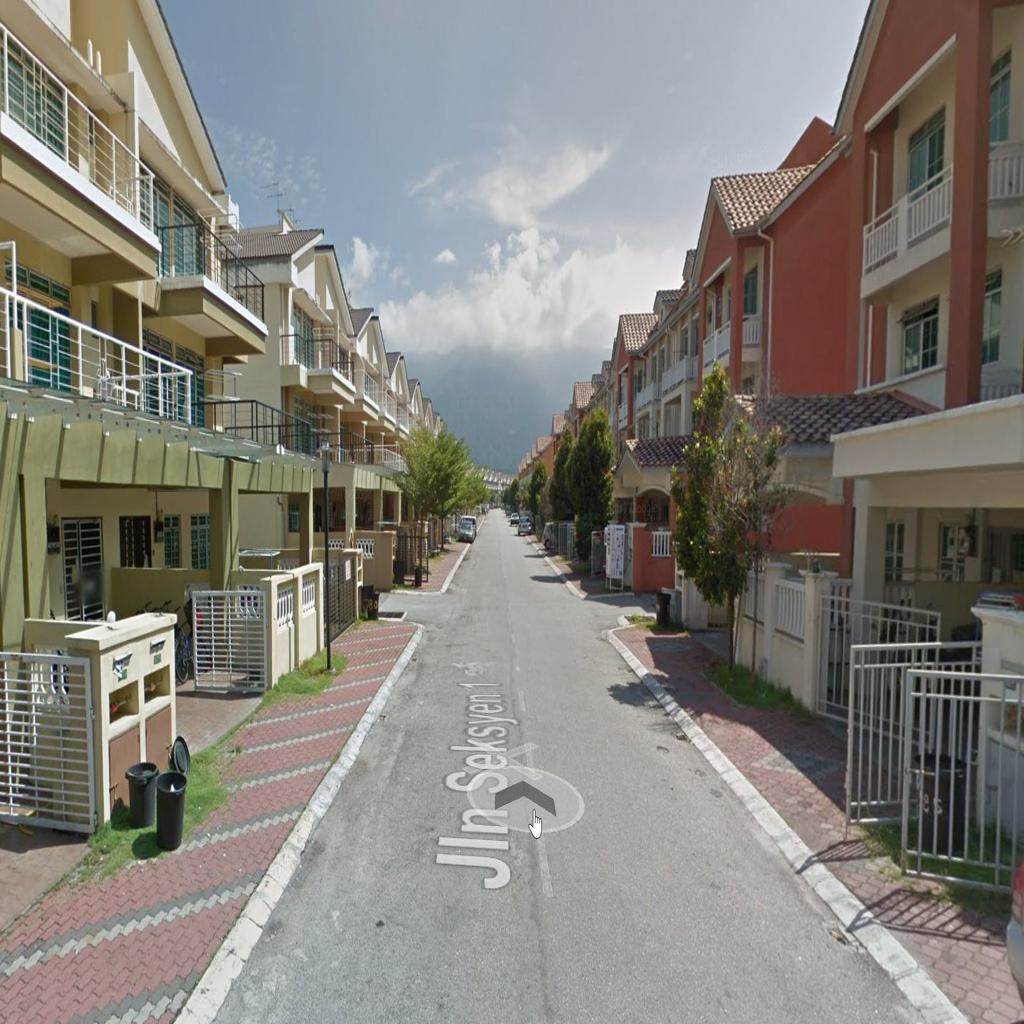Junction: (565, 563, 683, 670), (364, 562, 482, 654)
